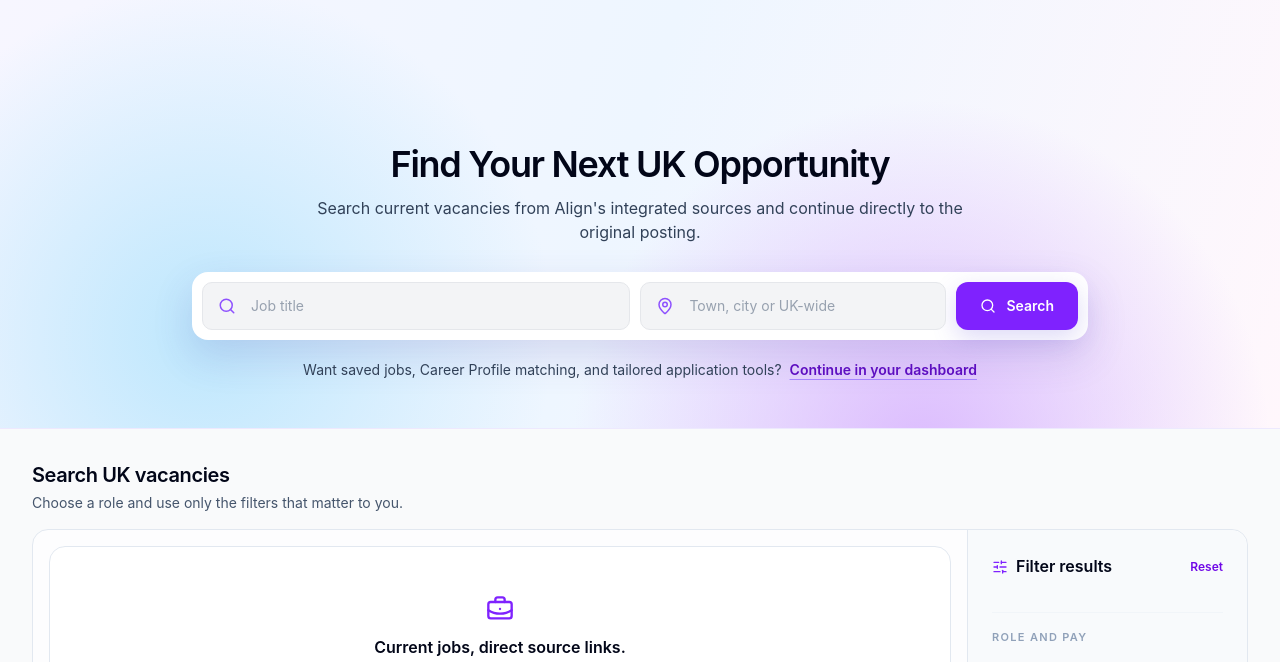
Test case: public job discovery › prevents an empty request before it reaches the jobs API
The image size is (1280, 662).
Click the button "Search" at (1017, 306), box [956,282,1078,330]
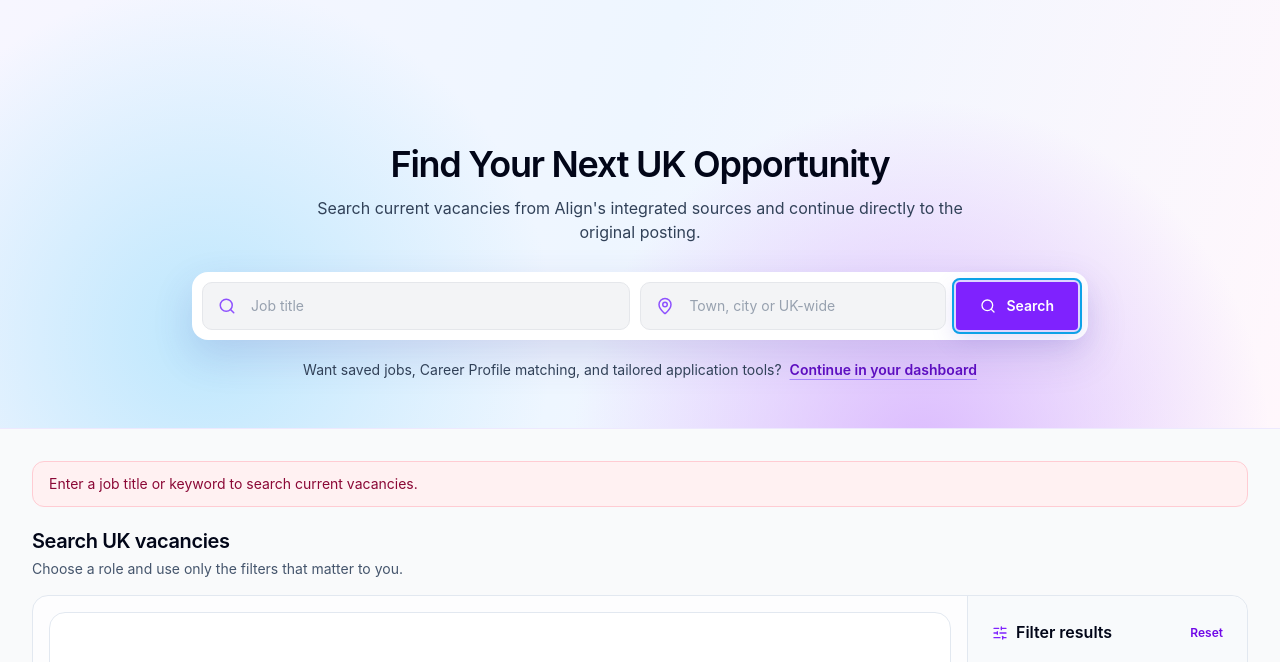
Check: the message shows "Enter a job title or keyword", box [49,475,418,492]
